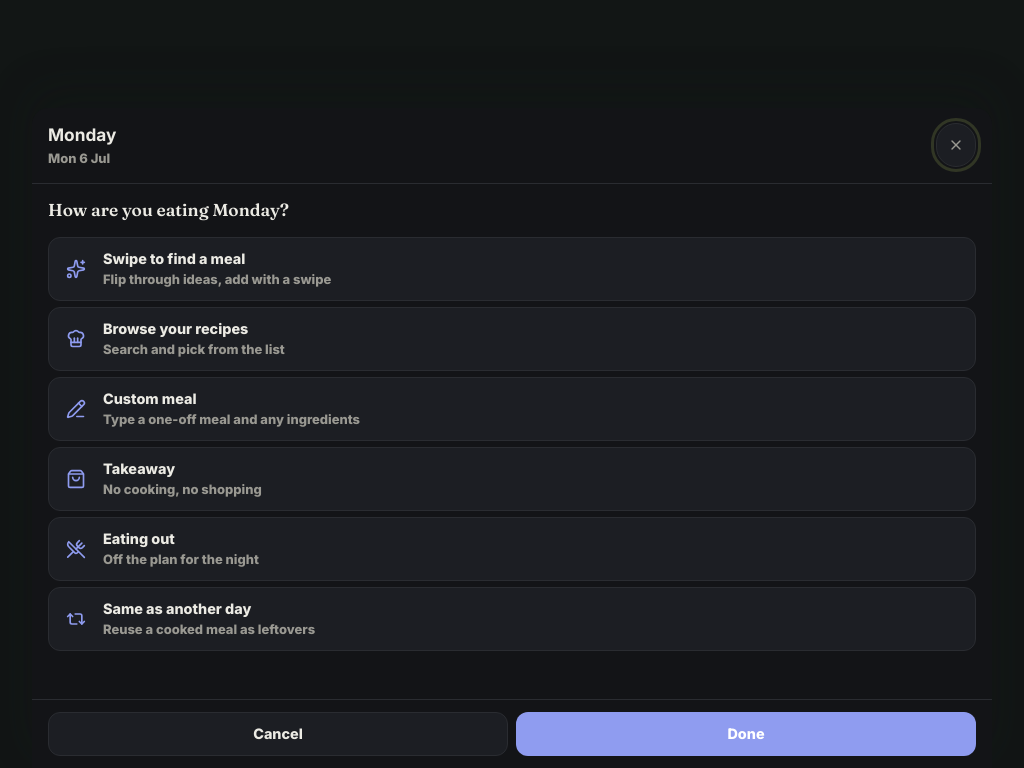
MealEditorSheet — recipe picker › previews a tapped recipe instead of committing it
Click the button "Browse your recipes Search and pick from the list". click: (176, 328)
box: [48,307,976,371]
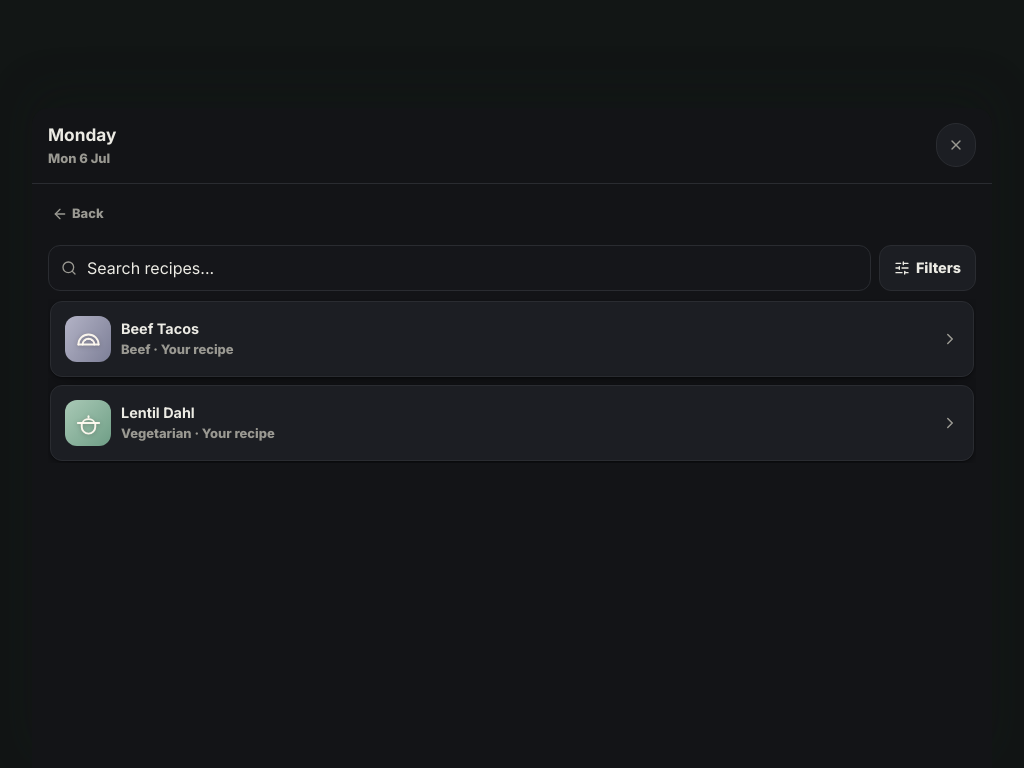
Click the button "Beef Tacos Beef · Your recipe". click: (88, 339)
box: [50,301,974,377]
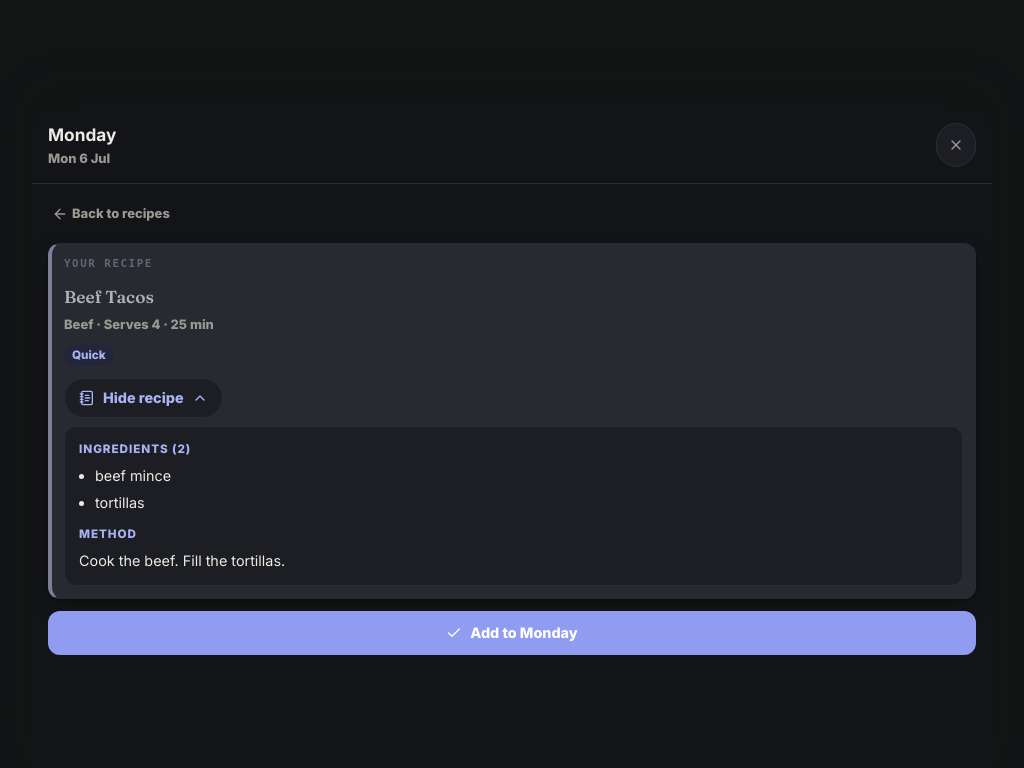
Check: the button "Add to Monday" is shown, box [48,611,976,655]
Check: the list item "beef mince" is shown, box [95,467,171,484]
